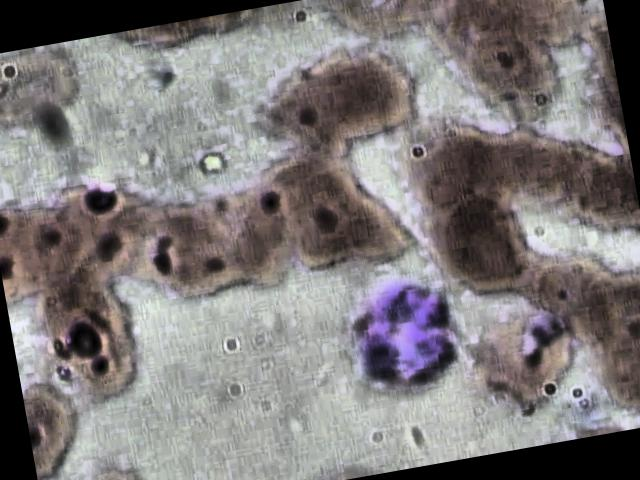RBC: (255, 38, 420, 162), (34, 273, 148, 414), (422, 188, 534, 298)
WBC: (334, 264, 478, 404)
